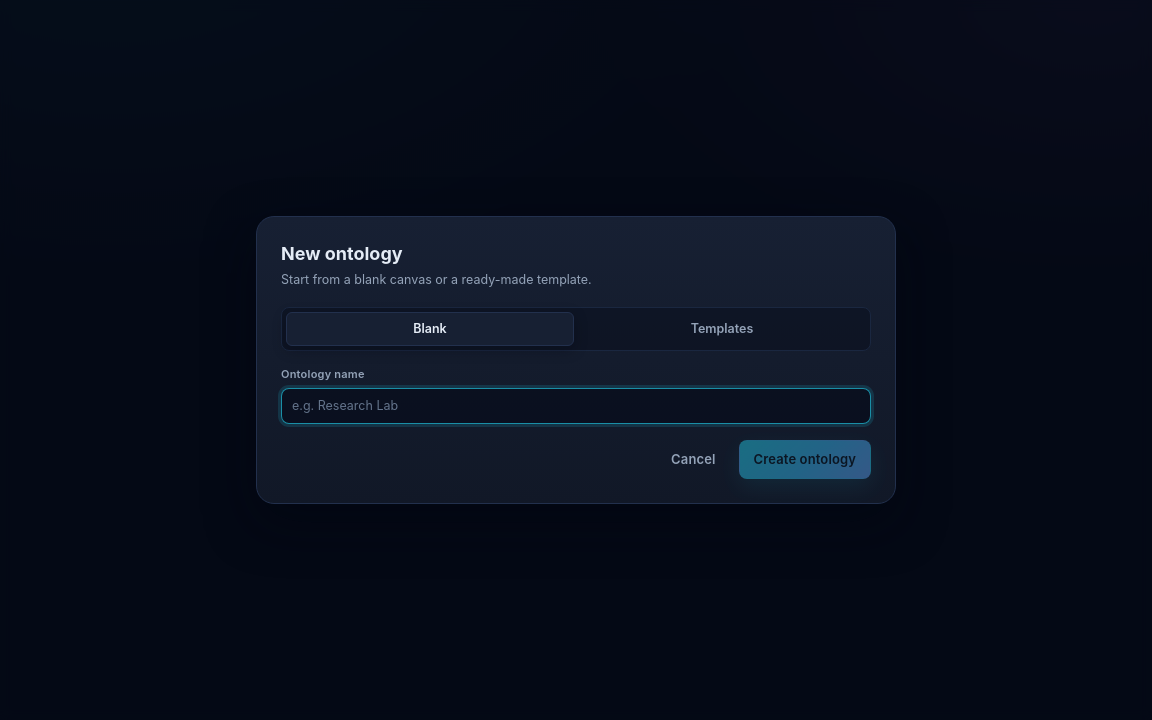
NewOntologyDialog template picker › searches by tags and shows a friendly empty state when nothing matches
This screenshot has width=1152, height=720.
Step 1. Click the tab with test id "template-tab-templates" → point(722, 329), box [578,312,866,346]
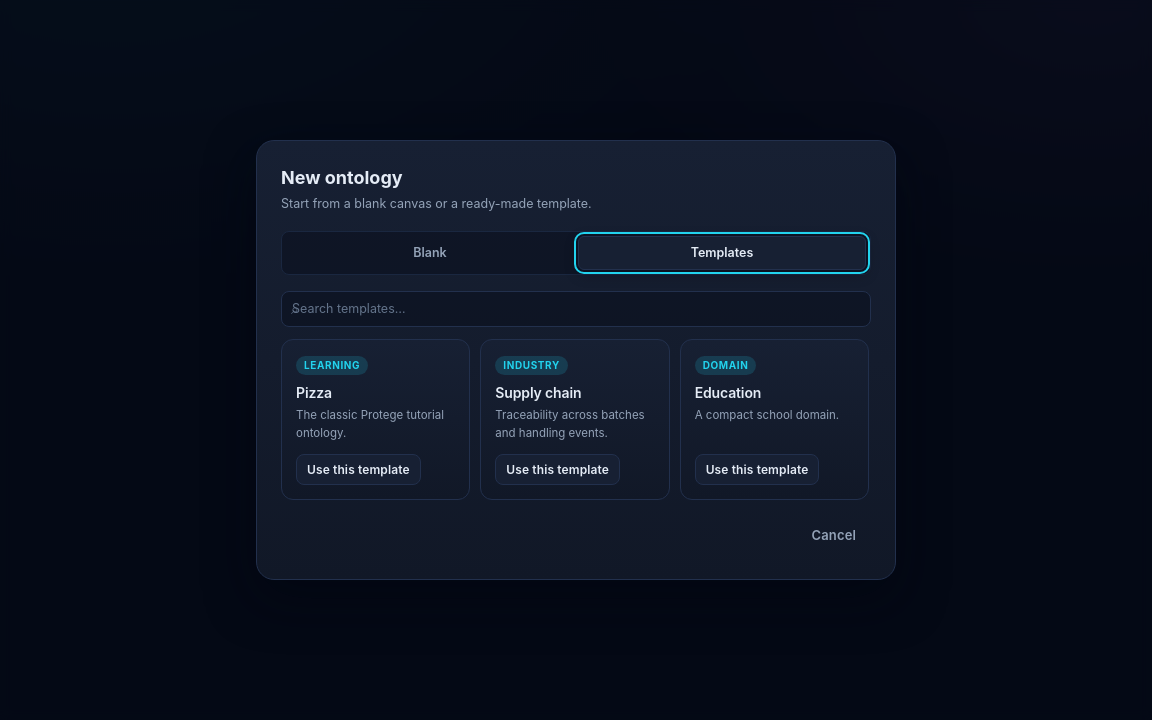
Step 2. Type "protege" into the search field with test id "template-search" → point(576, 309), box [281,291,871,327]
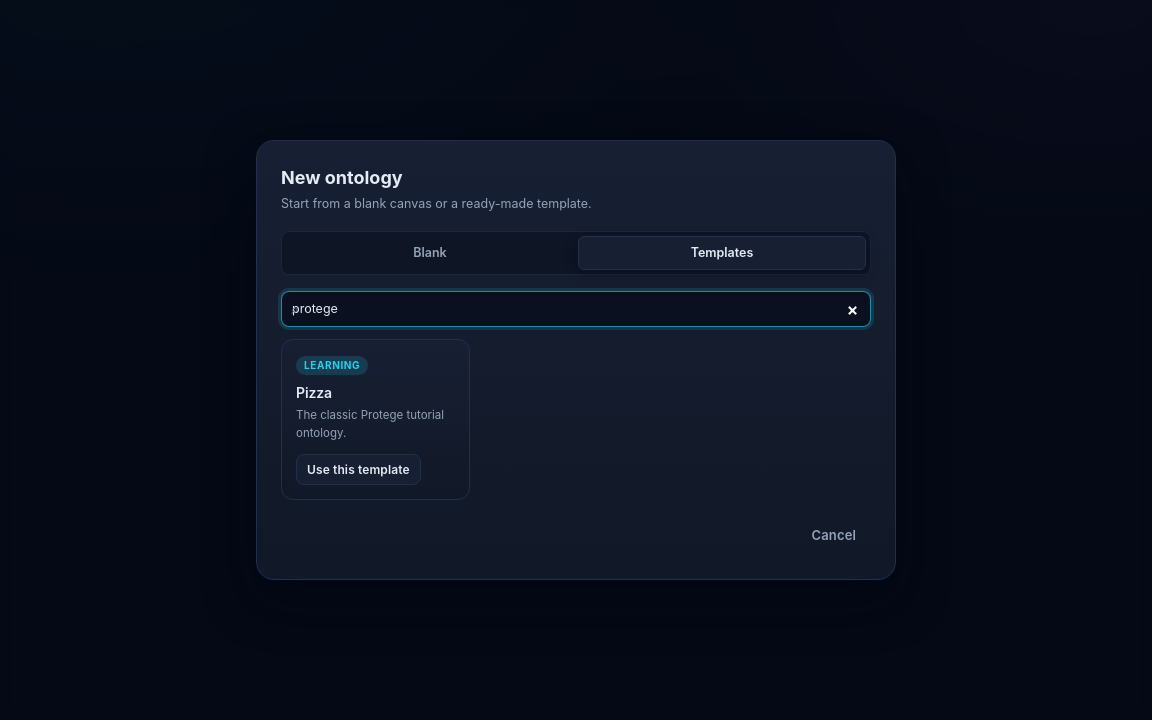
Now the element with test id "template-card-pizza" is shown, box [281,340,470,500]
Step 3. Replace the text in the search field with test id "template-search" with "zzznope" → point(576, 309), box [281,291,871,327]
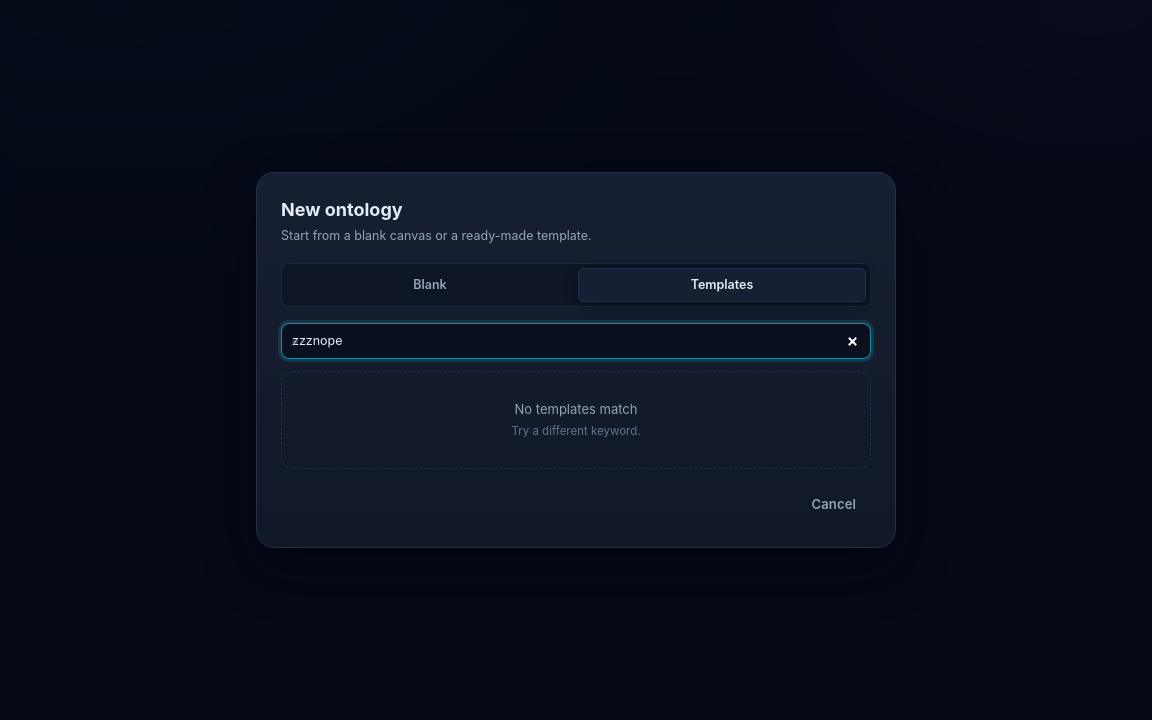
Now the text "No templates match" is shown, box [514,400,637,419]
